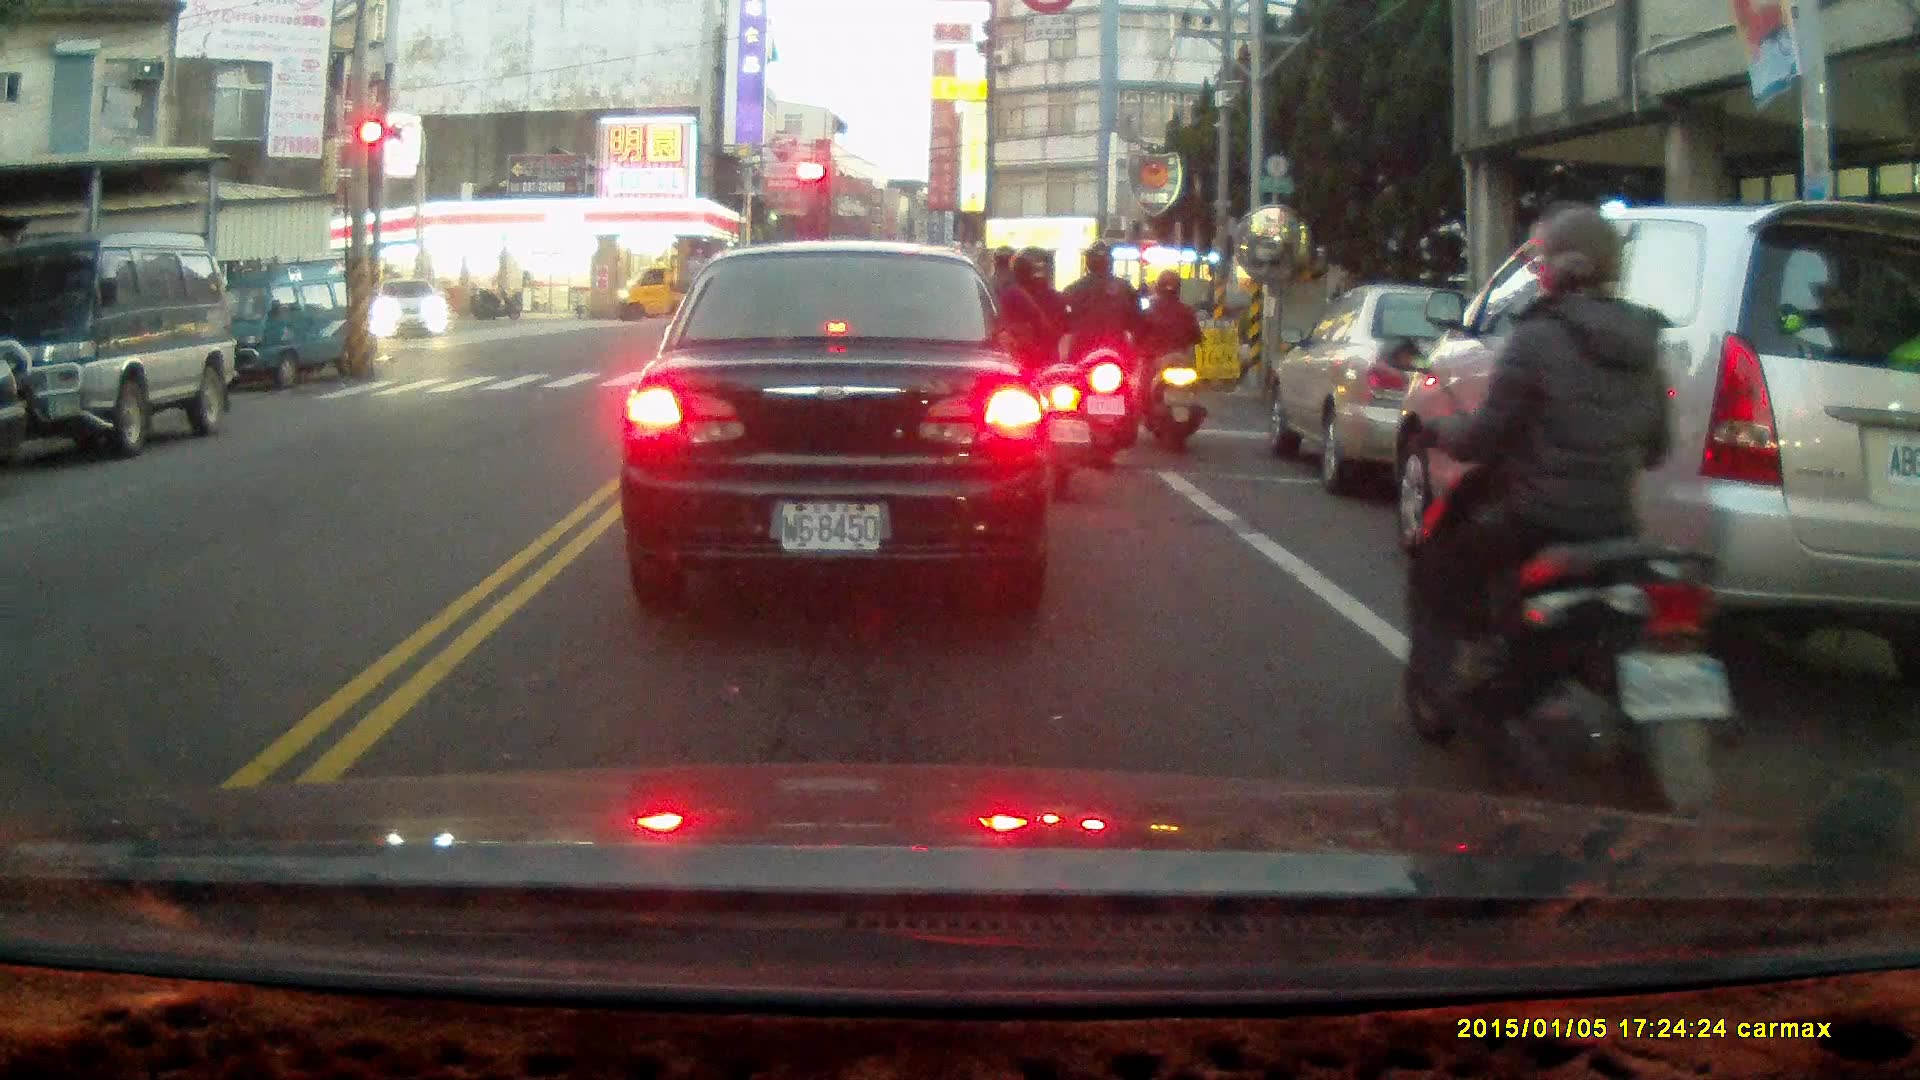rider: (1384, 198, 1744, 859), (965, 243, 1092, 507), (1048, 243, 1141, 469), (961, 242, 1053, 442), (1134, 269, 1204, 450), (466, 283, 521, 322)
vehicle: (1378, 195, 1920, 685), (617, 243, 1061, 606), (1, 234, 239, 458), (194, 255, 381, 394), (608, 262, 752, 324), (372, 277, 451, 343)
